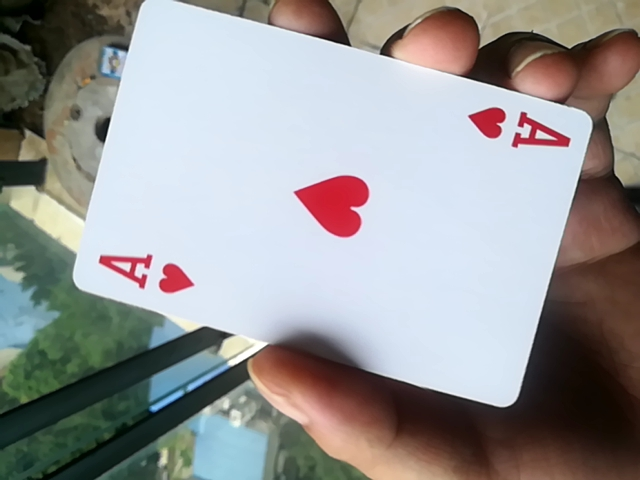hx a: (58, 9, 606, 413)
